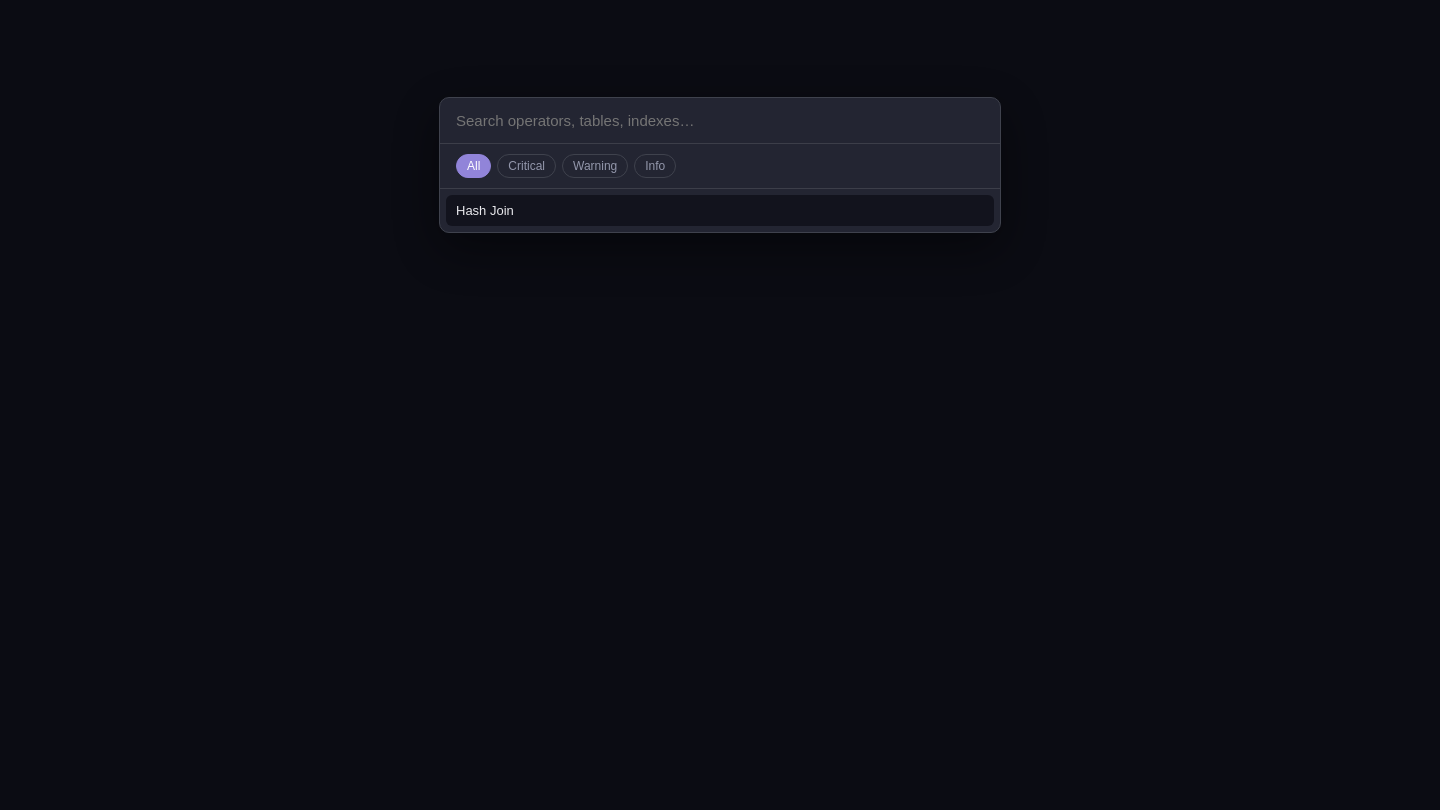
it: SearchPalette › shows an explicit 'no matches' state for a zero-match query, not an empty list
The width and height of the screenshot is (1440, 810).
In the dropdown with test id "search-palette-input": (720, 121) [440,98,1000,144], type "nonexistent-xyz"
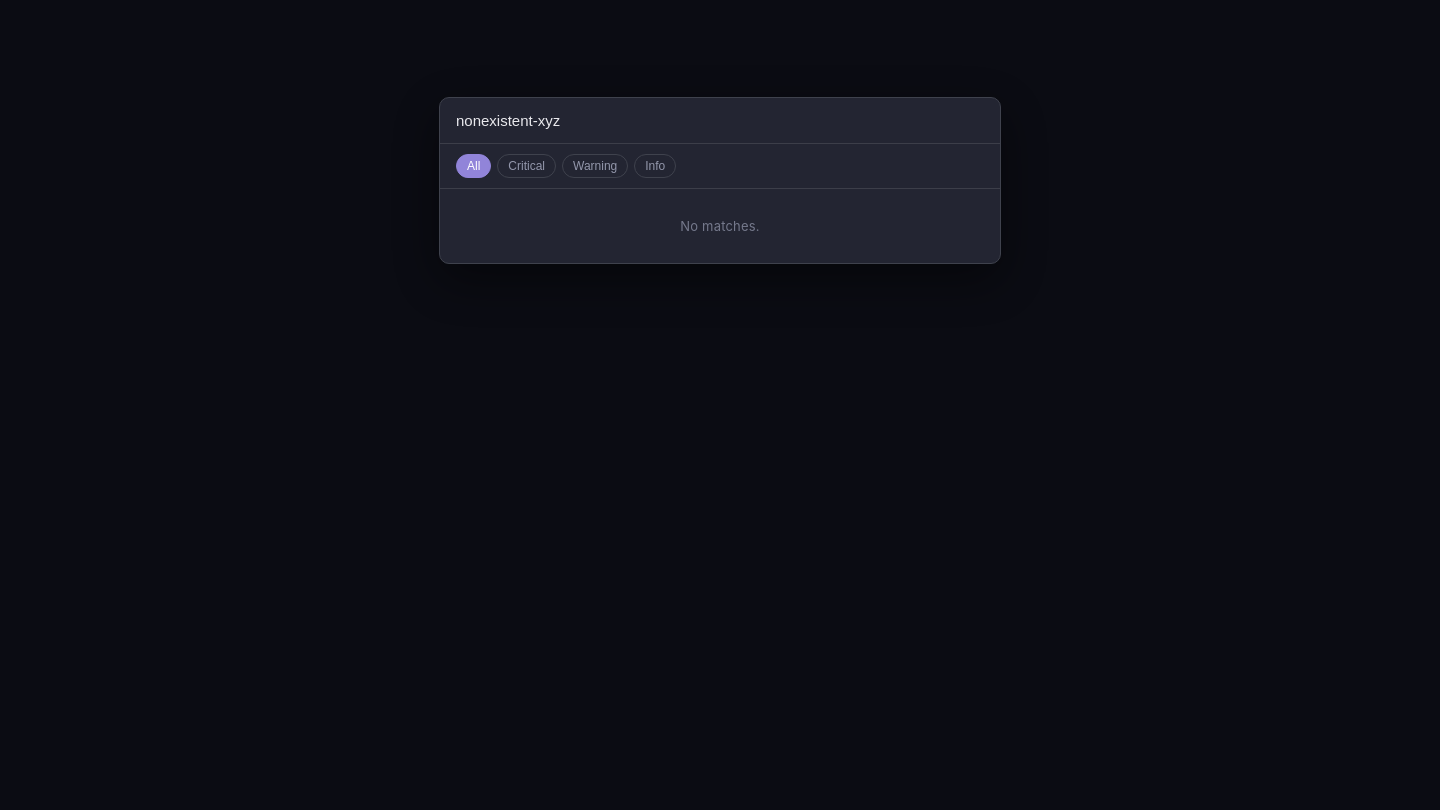
Expected: the text "No matches." is shown, [680,218,760,234]
Expected: the option with test id "search-palette-result" is gone
